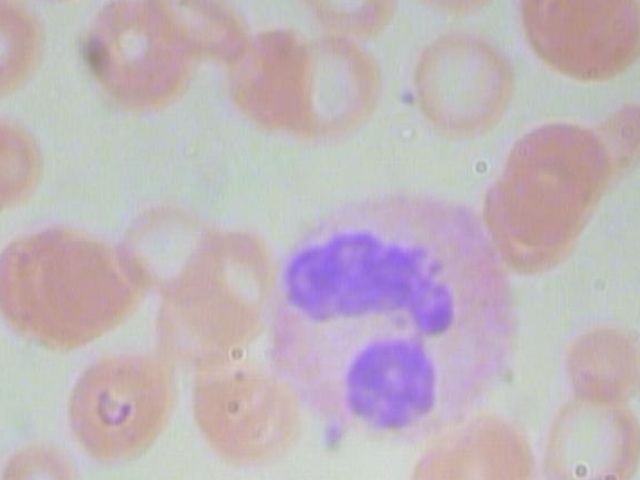RBC: (60, 338, 186, 467), (402, 22, 517, 141), (75, 0, 204, 105), (271, 25, 383, 142), (527, 385, 640, 480), (518, 0, 640, 84), (400, 415, 541, 480), (559, 314, 640, 397), (0, 432, 82, 480)
WBC: (266, 179, 535, 445)
